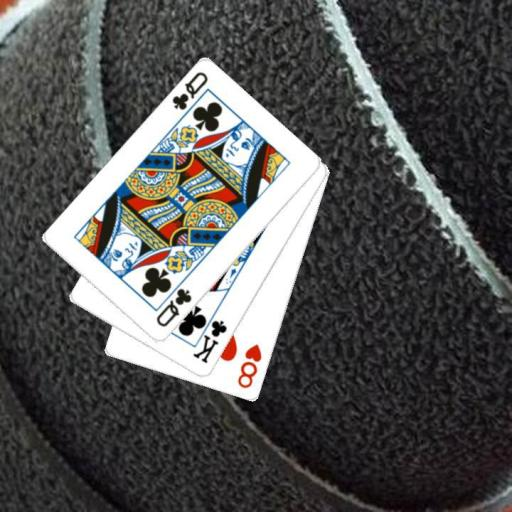8H: (235, 341, 264, 391)
KC: (189, 308, 229, 365)
QC: (153, 285, 194, 329), (169, 69, 210, 112)
